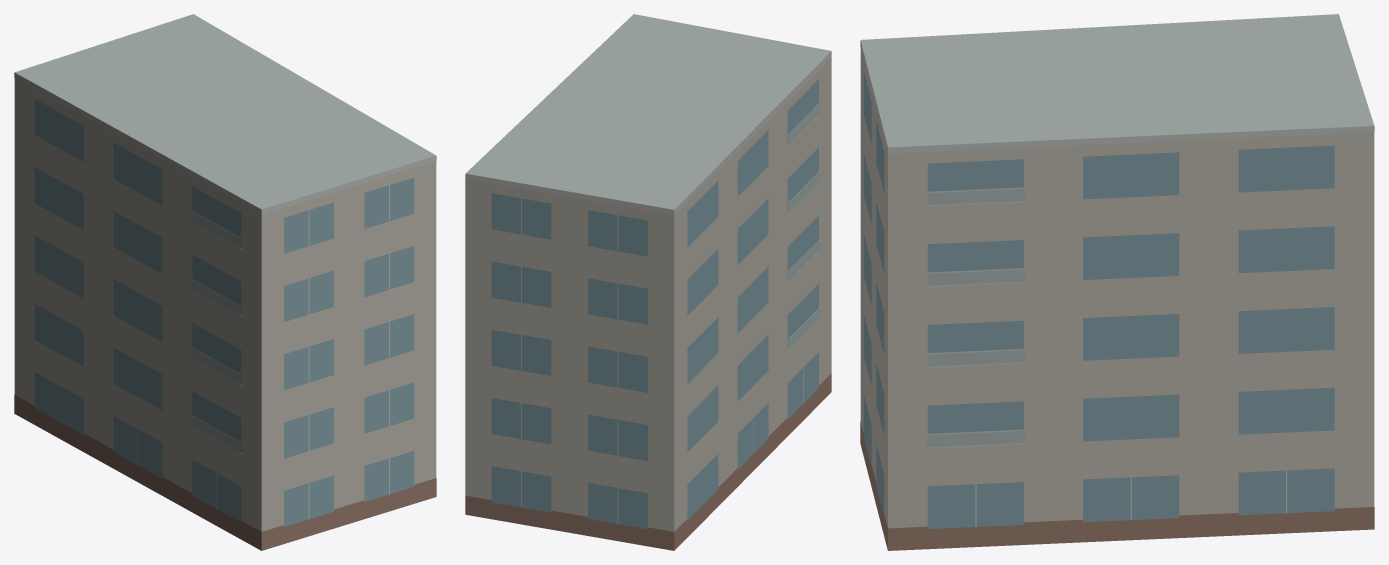
Rendered from survey-upis-32699927.glb.
3 views of the same model, side by side, from view 1: azimuth 30°, elevation 25°; view 2: azimuth 150°, elevation 25°; view 3: azimuth 270°, elevation 25° (orthographic). The views are drawn at different scales.
Parts seen in each view (by area): view 1: survey-upis-32699927.tmp; view 2: survey-upis-32699927.tmp; view 3: survey-upis-32699927.tmp.
Part boxes in pixels (x1,y1,x2,y2): survey-upis-32699927.tmp: (14,14,436,550); survey-upis-32699927.tmp: (465,14,831,550); survey-upis-32699927.tmp: (860,14,1374,550).
Size of the model in its own units: 10.82 by 15.25 by 17.62.
